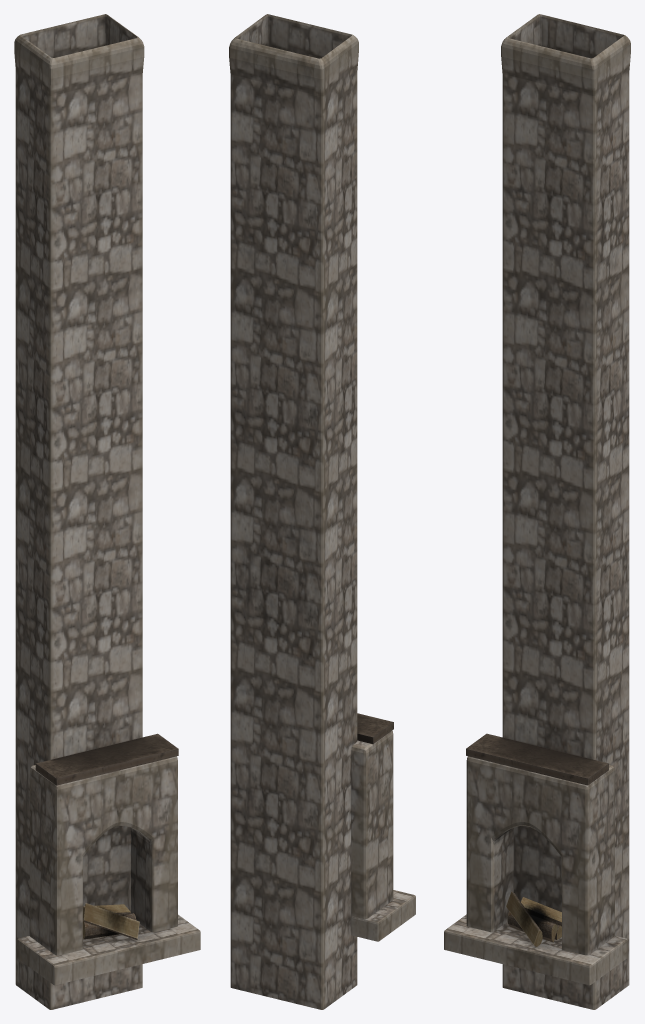
Rendered from BW_MillerCottage01_Chimney.fbx.
3 renders of one model, left to right at view 1: azimuth 30°, elevation 25°; view 2: azimuth 150°, elevation 25°; view 3: azimuth 330°, elevation 25°, orthographic.
Visible parts, largest first — view 1: BW_MillerCottage01_Chimney; view 2: BW_MillerCottage01_Chimney; view 3: BW_MillerCottage01_Chimney.
Part boxes in pixels (x1,y1,x2,y2): BW_MillerCottage01_Chimney: (14,14,200,1009); BW_MillerCottage01_Chimney: (229,14,415,1009); BW_MillerCottage01_Chimney: (444,14,630,1009).
Size of the model in its own units: 0.9445 by 5.84 by 0.7528.
